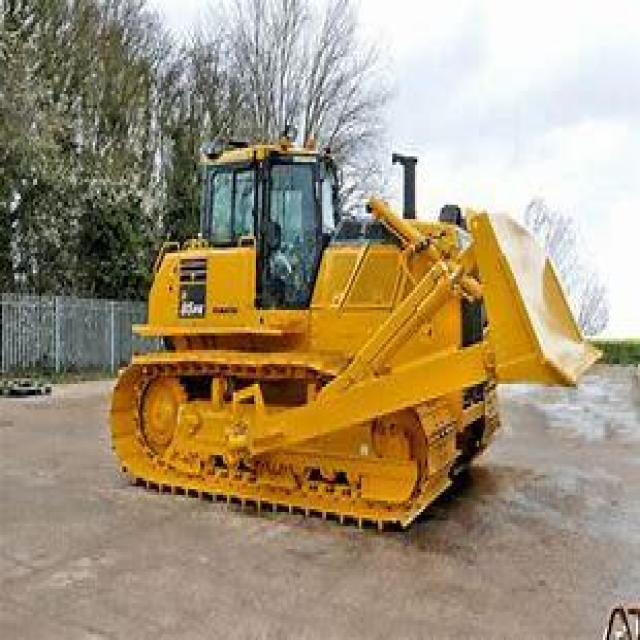Bulldozer: (87, 100, 605, 540)
